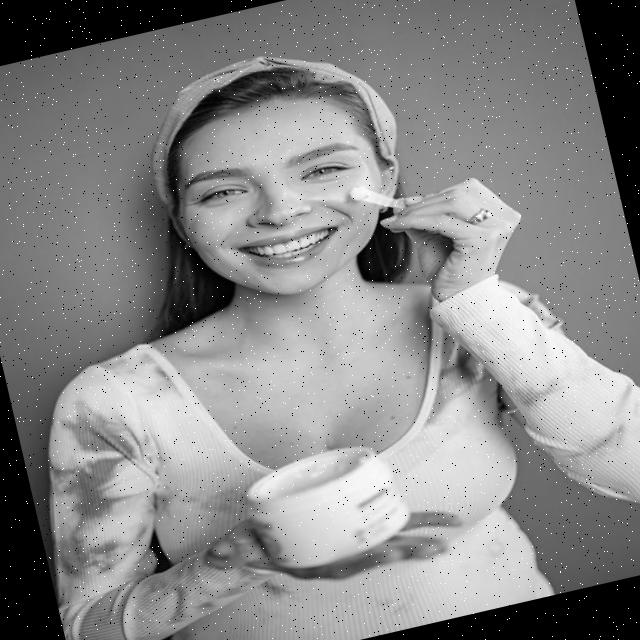Happiness: (156, 79, 407, 320)
